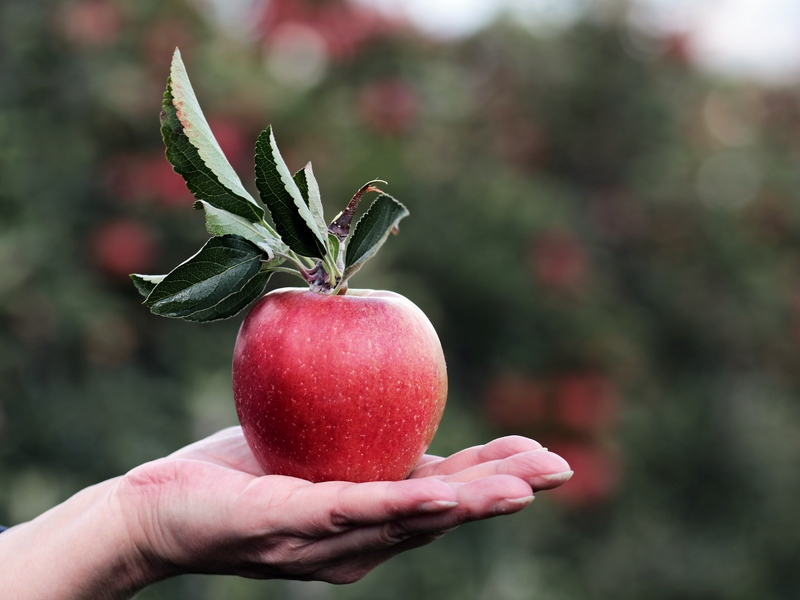elma: (230, 287, 448, 482)
